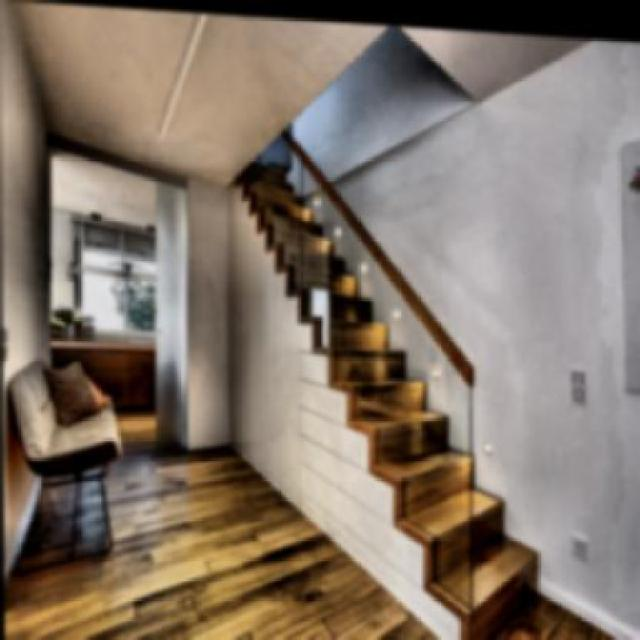stair: (236, 180, 538, 563)
